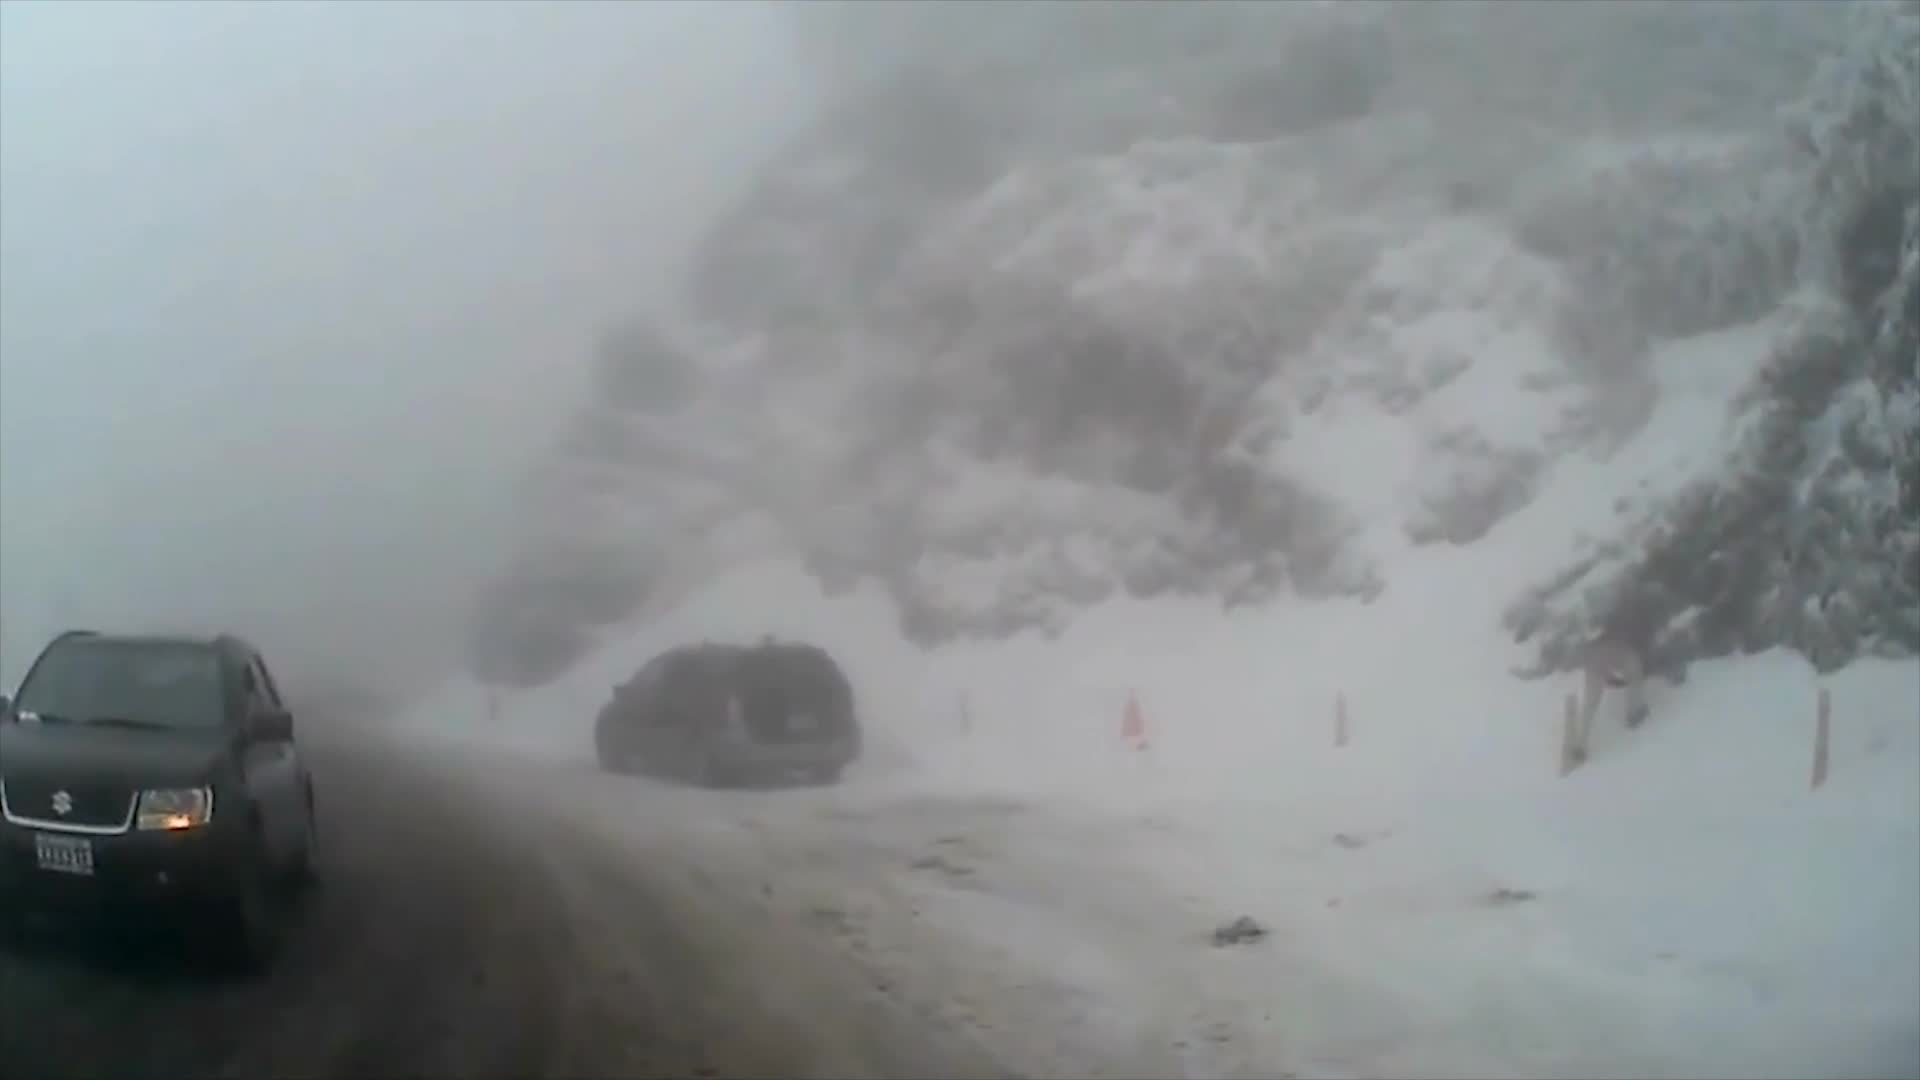vehicle: (0, 626, 320, 978), (593, 642, 860, 789)
